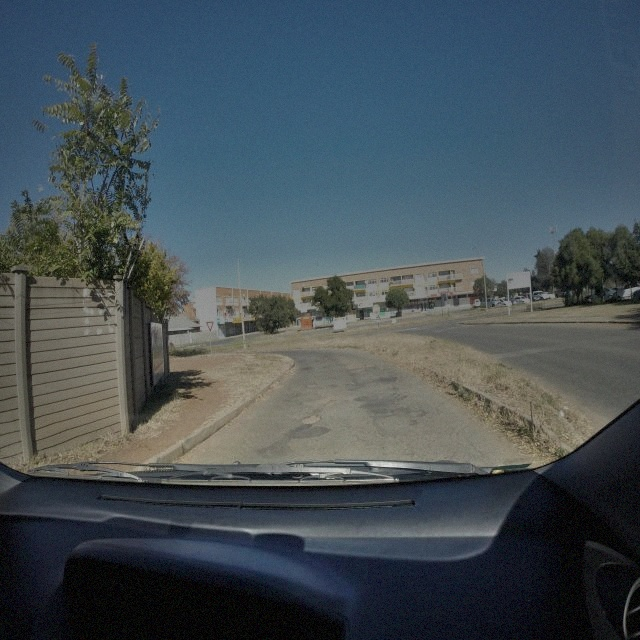pothole: (324, 399, 348, 408), (346, 363, 374, 370), (300, 417, 322, 424)
